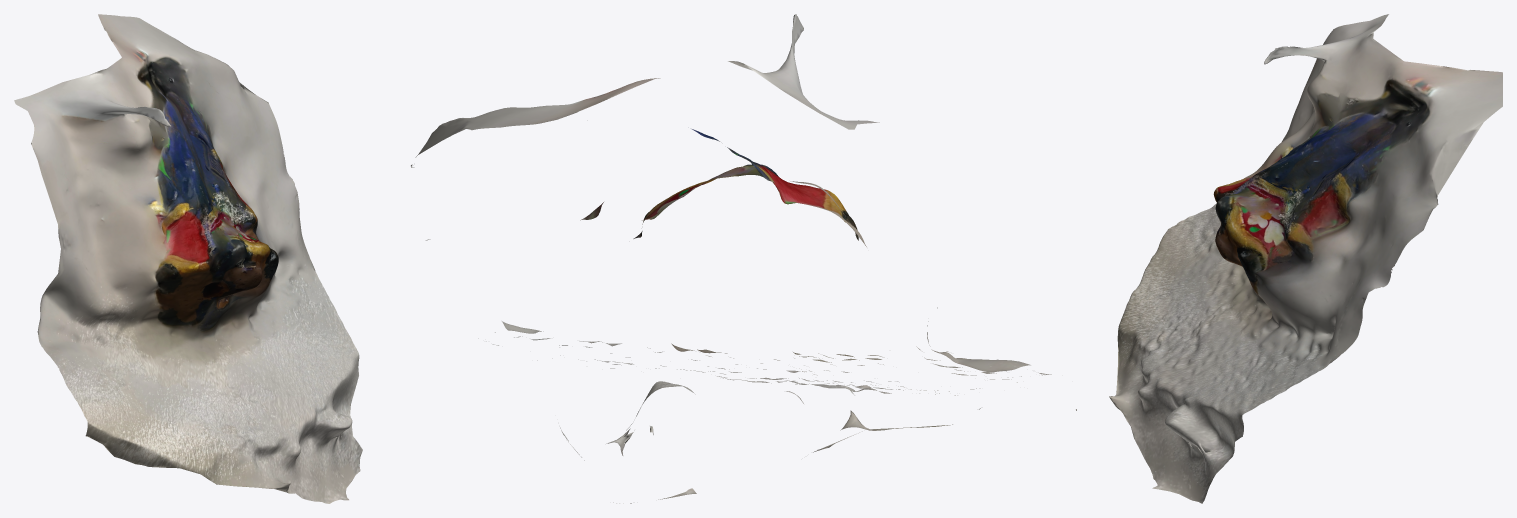
3 views of the same model, side by side, from view 1: azimuth 30°, elevation 25°; view 2: azimuth 150°, elevation 25°; view 3: azimuth 270°, elevation 25° (orthographic). The views are drawn at different scales.
Bounding box in the file's own units: 0.6799 × 0.8095 × 0.7478.
1 material, 1 textured.
